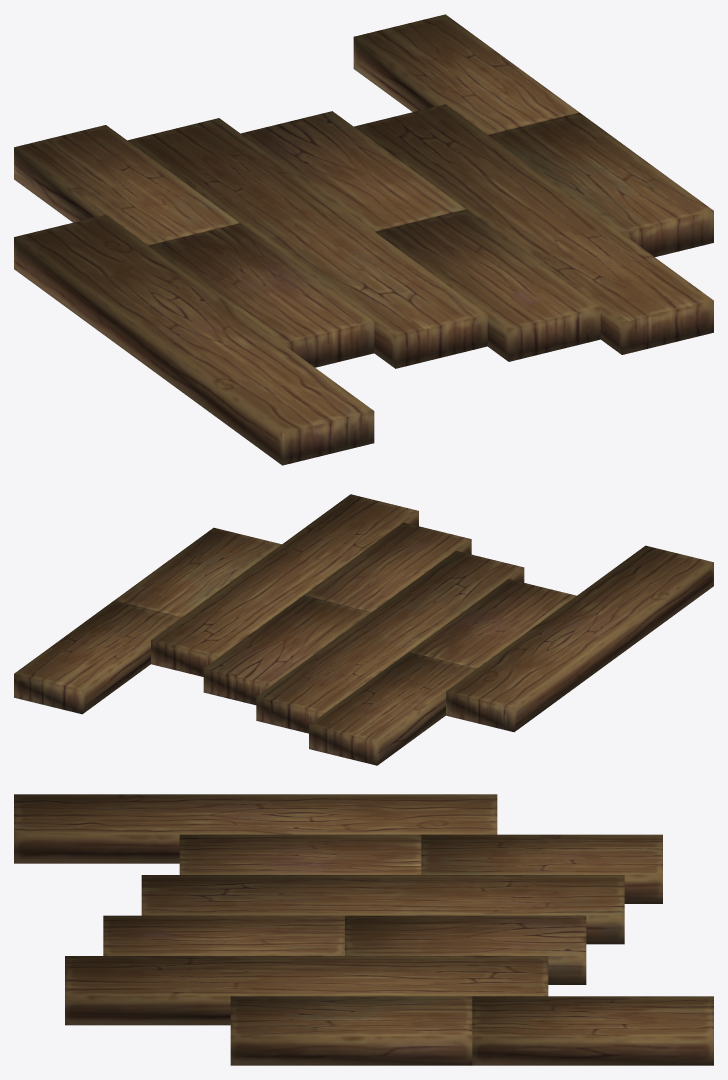
File: Ground2.fbx
3 renders of one model, top to bottom at view 1: azimuth 30°, elevation 25°; view 2: azimuth 150°, elevation 25°; view 3: azimuth 270°, elevation 25°, orthographic. The views are drawn at different scales.
Visible parts, largest first — view 1: Floorboards_G1_Low_FBoard_6A_low3.002; view 2: Floorboards_G1_Low_FBoard_6A_low3.002; view 3: Floorboards_G1_Low_FBoard_6A_low3.002.
Part boxes in pixels (box(x1,y1,x2,y2)): Floorboards_G1_Low_FBoard_6A_low3.002: box(14, 14, 713, 465); Floorboards_G1_Low_FBoard_6A_low3.002: box(14, 494, 713, 765); Floorboards_G1_Low_FBoard_6A_low3.002: box(14, 794, 713, 1065).
Bounding box in the file's own units: 154 × 8.54 × 187.
